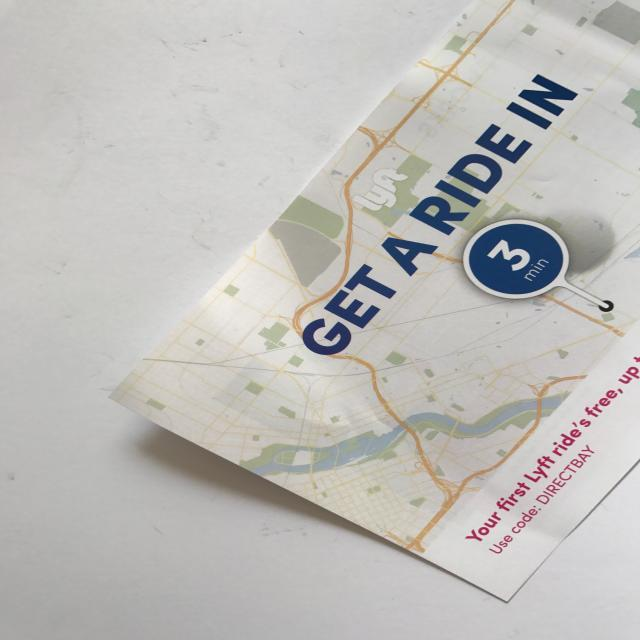paper: (110, 1, 640, 600)
